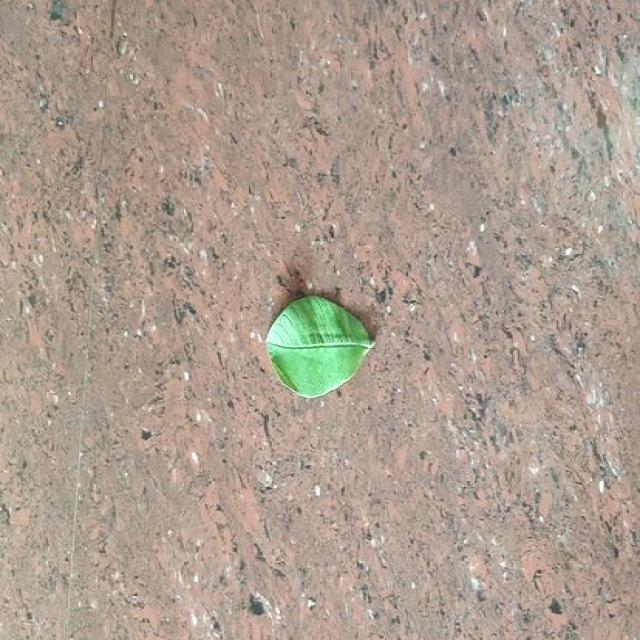leaf: (264, 294, 375, 399)
